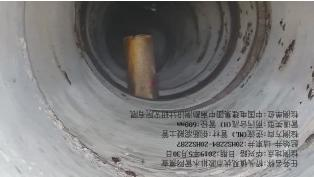ZGAJ: (125, 35, 158, 99)
